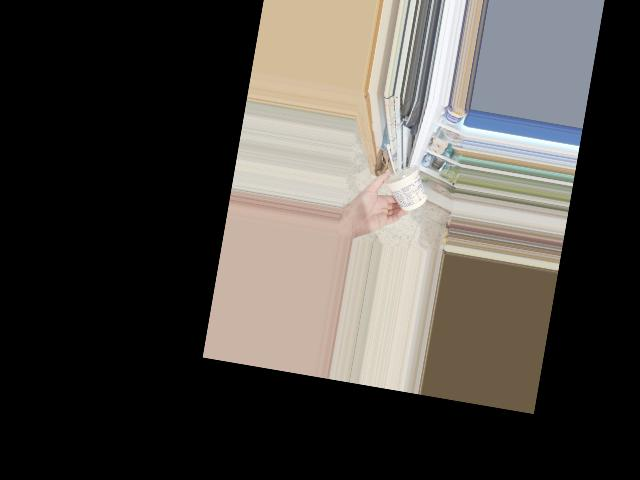cotage: (384, 159, 426, 207)
